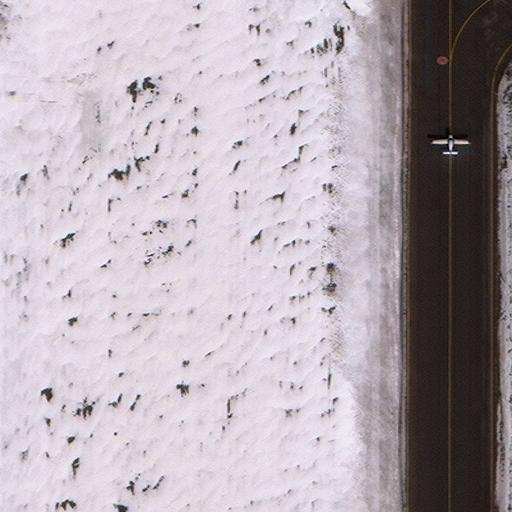Small Civil Transport: (432, 134, 468, 155)
